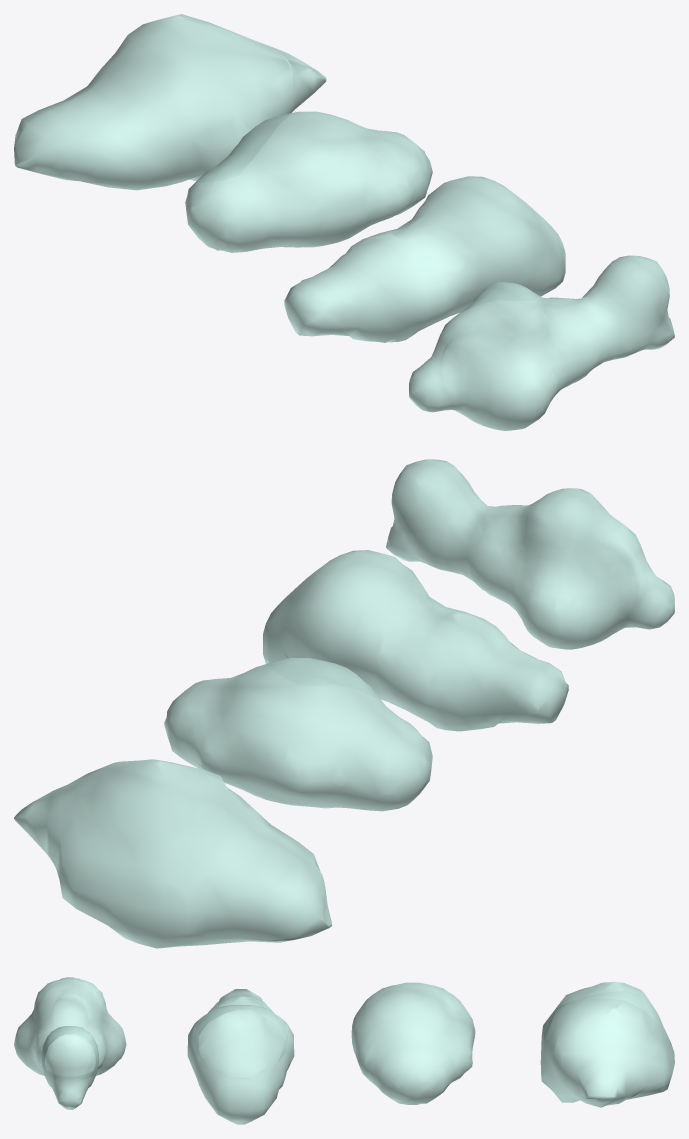
Rendered from _ulut.fbx.
3 views of the same model, one above another, from view 1: azimuth 30°, elevation 25°; view 2: azimuth 150°, elevation 25°; view 3: azimuth 270°, elevation 25° (orthographic). The views are drawn at different scales.
Visible parts, largest first — view 1: Bulut4, Bulut2, Bulut1, Bulut3; view 2: Bulut4, Bulut1, Bulut2, Bulut3; view 3: Bulut4, Bulut3, Bulut2, Bulut1.
Part boxes in pixels (box(x1,y1,x2,y2)): Bulut4: box(14, 14, 326, 190); Bulut2: box(284, 176, 565, 342); Bulut1: box(409, 255, 674, 430); Bulut3: box(185, 111, 432, 252); Bulut4: box(14, 759, 331, 948); Bulut1: box(386, 459, 674, 649); Bulut2: box(263, 550, 568, 731); Bulut3: box(164, 658, 432, 811); Bulut4: box(540, 982, 674, 1107); Bulut3: box(351, 982, 475, 1104); Bulut2: box(187, 989, 294, 1124); Bulut1: box(14, 977, 126, 1109).
Size of the model in its own units: 2080 by 983 by 5198.
